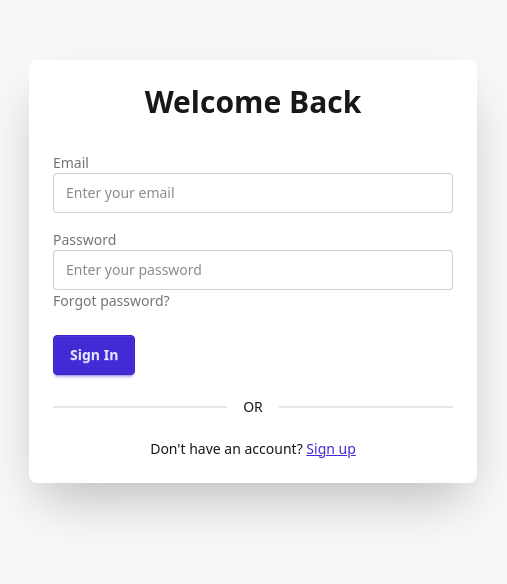
App Component › allows user to login and displays welcome message
Type "test@example.com" into the field with placeholder "Enter your email".
click(253, 192); type("test@example.com")  # box [53,172,453,212]
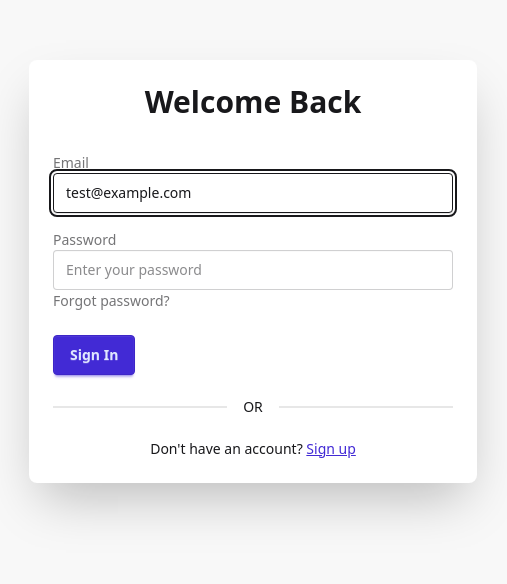
Type "password123" into the password field with placeholder "Enter your password".
click(253, 270); type("password123")  # box [53,250,453,290]
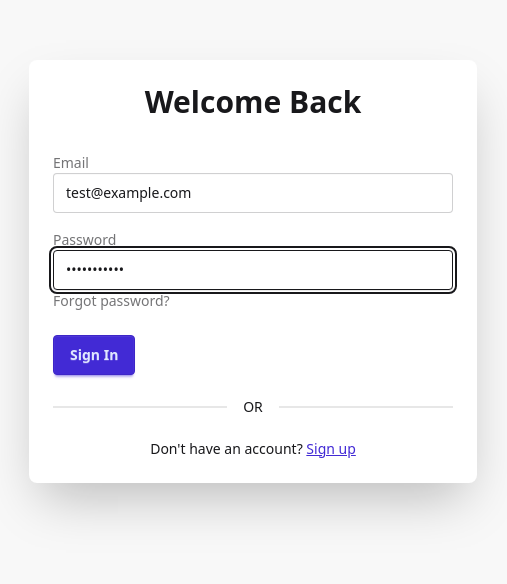
Submit form
Click the button "Sign In".
click(94, 354)  # box [53,334,135,374]
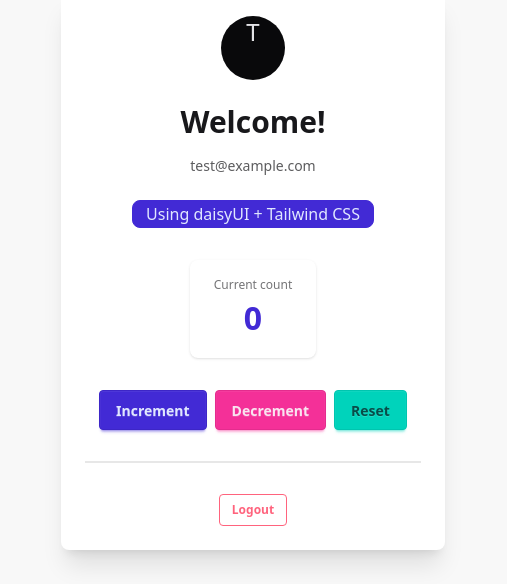
Expected: the heading "Welcome!" is shown, [180,104,326,140]
Expected: the text "test@example.com" is shown, [190,156,316,176]
